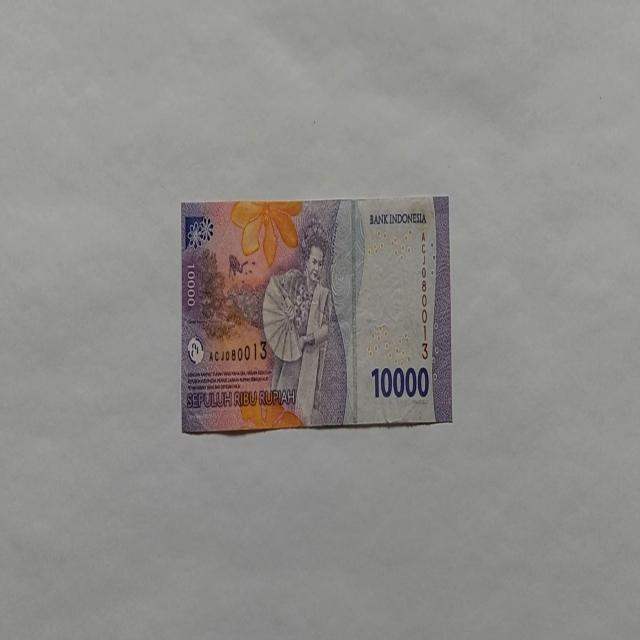sepuluh ribu rupiah: (180, 194, 452, 433), (261, 230, 332, 426)
